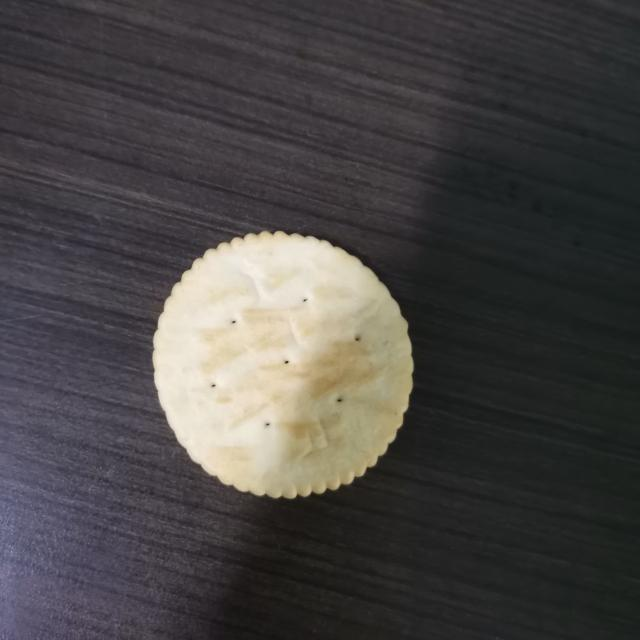Intact: (142, 215, 432, 511)
